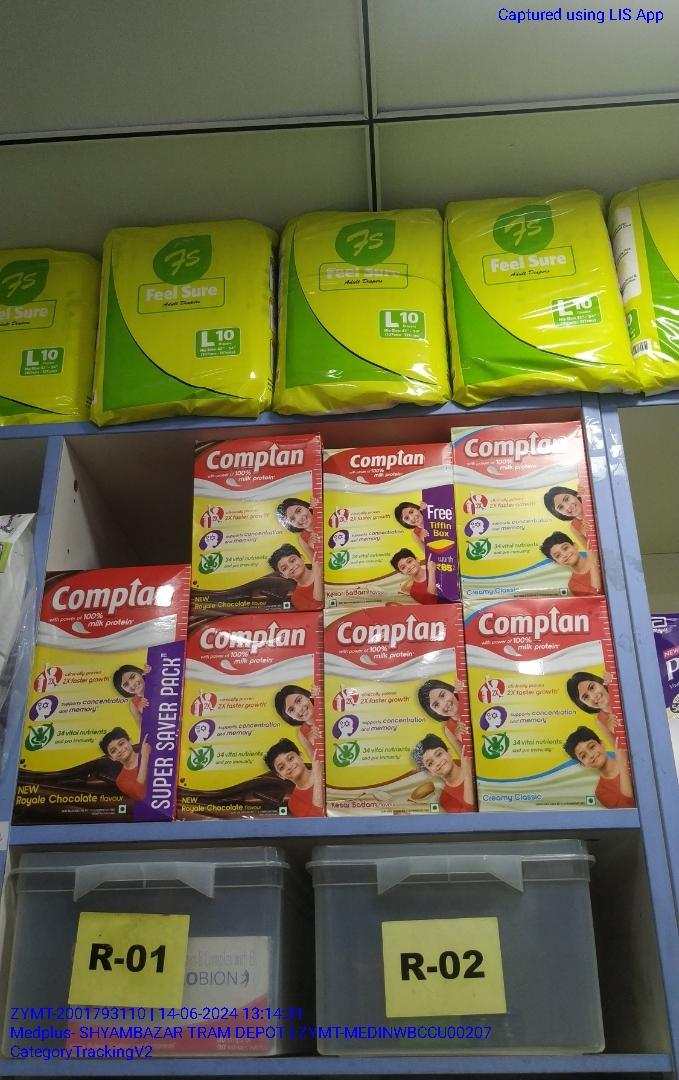COMPLAN_CHOCOLATE_1_KG_PACK: (17, 568, 179, 823)
COMPLAN_CHOCOLATE_500_GMS_PACK: (188, 621, 321, 817), (190, 434, 318, 609)
COMPLAN_CREAMY_CLASSIC_500_G_PACK: (478, 606, 630, 811), (458, 423, 592, 598)
COMPLAN_KESAR_BADAM_500_GMS_PACK: (325, 612, 466, 810), (323, 449, 453, 606)
